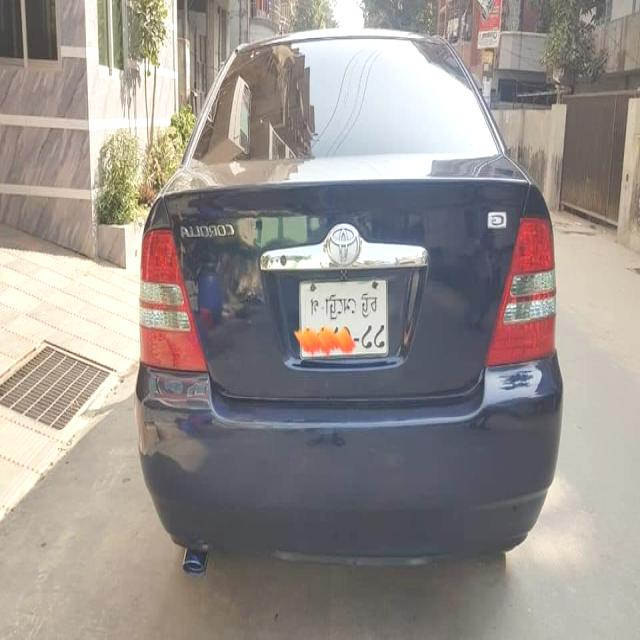blue: (130, 29, 554, 571)
